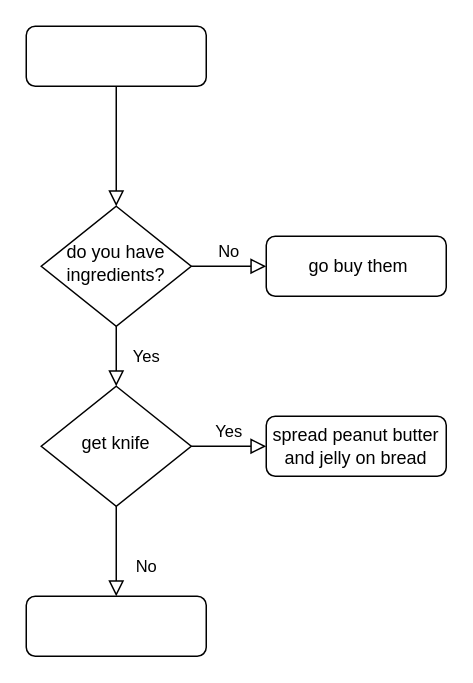
Image size: 473x683. Some labels were removed from this diagram. Here are the shapes that lost their labels. From the top down, the centre of each, then its label:
(115,55): peanut butter and jelly sandwich
(115,625): Buy a knife
